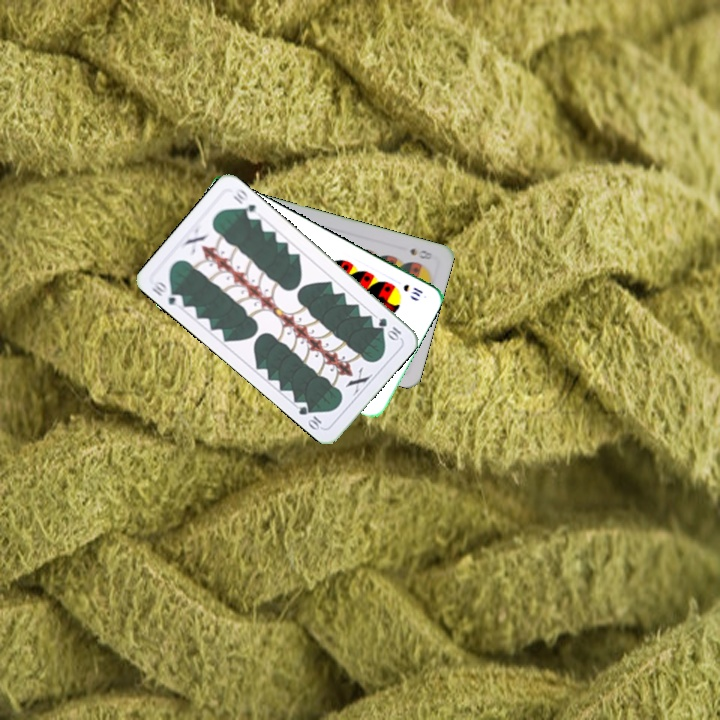G10: (147, 277, 186, 310), (374, 314, 404, 343)
S10: (399, 280, 425, 299)
S8: (406, 244, 435, 262)
